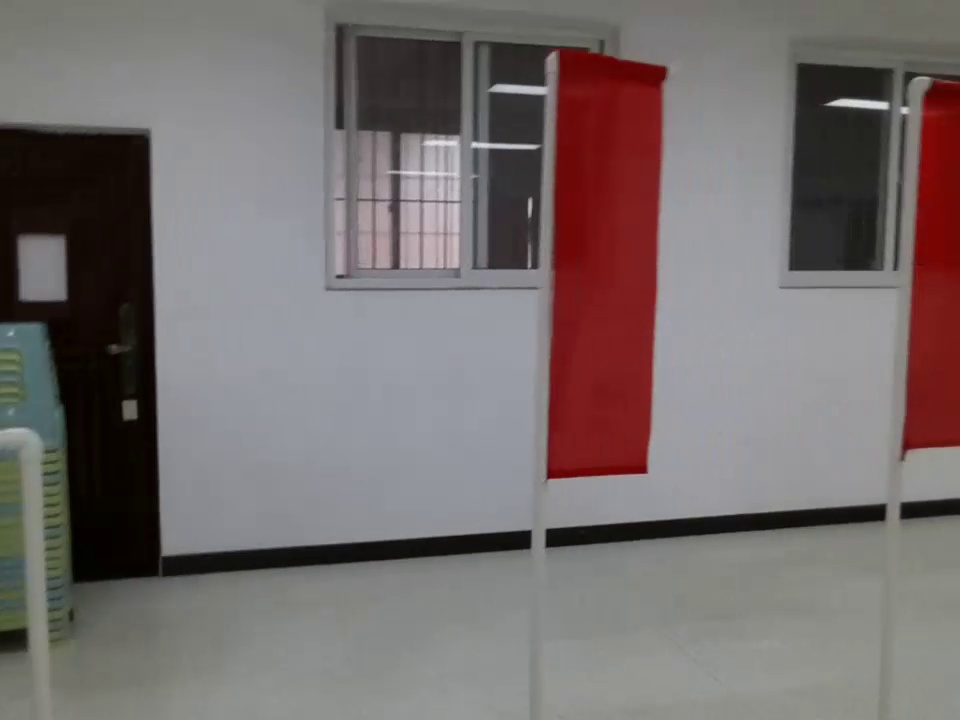qi: (518, 35, 656, 511), (875, 69, 960, 484)
